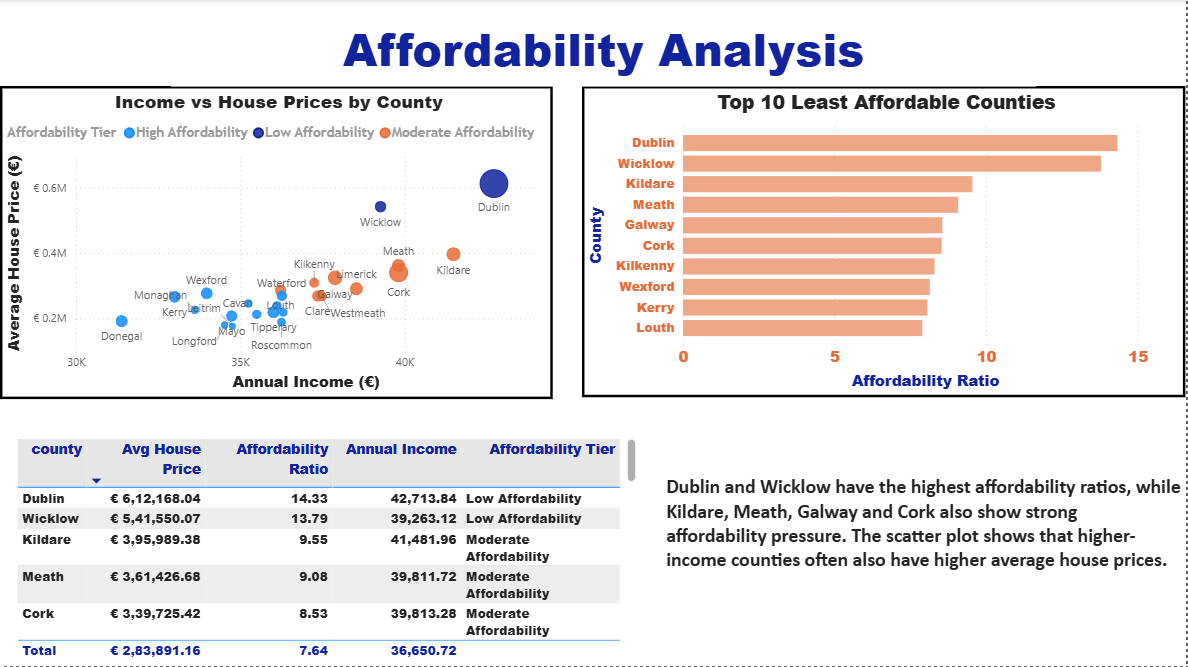

Layout of this report page (visuals, bound fields, positions):
{"tool":"powerbi","page":{"name":"Affordability_Analysis","canvas":[1280,720],"ordinal":1},"visuals":[{"type":"clusteredBarChart","title":"Top 10 Least Affordable Counties","fields":{"Category":["irish_housing_final.county"],"Y":["Avg(irish_housing_final.affordability_ratio)"]},"box":[629,94.4,651.7,336.2],"z":0},{"type":"scatterChart","title":"Income vs House Prices by County","fields":{"X":["Avg(irish_housing_final.annual_income)"],"Y":["irish_housing_final.Average House Price"],"Size":["Avg(irish_housing_final.population_2022)"],"Category":["irish_housing_final.county"],"Series":["irish_housing_final.affordability_tier"]},"box":[0,94.4,596.9,338.1],"z":1000},{"type":"tableEx","fields":{"Values":["irish_housing_final.county","irish_housing_final.Average House Price","Avg(irish_housing_final.affordability_ratio)","Avg(irish_housing_final.annual_income)","irish_housing_final.affordability_tier"]},"box":[13.2,470.3,678.1,249.3],"z":2000},{"type":"textbox","box":[185.2,15,934.2,80.1],"z":3000},{"type":"textbox","box":[714,508.1,566.7,213.4],"z":4000}]}

Visuals, with their boxes in screenshot pixels (x1, y1, x2, y2), scaled from the page's 1280x720 canvas onto the 1188x667 screenshot:
"Top 10 Least Affordable Counties" clusteredBarChart: <box>584,87,1187,399</box>
"Income vs House Prices by County" scatterChart: <box>0,87,554,401</box>
tableEx - irish_housing_final.county x irish_housing_final.Average House Price: <box>12,436,642,666</box>
textbox: <box>172,14,1039,88</box>
textbox: <box>663,471,1187,666</box>
